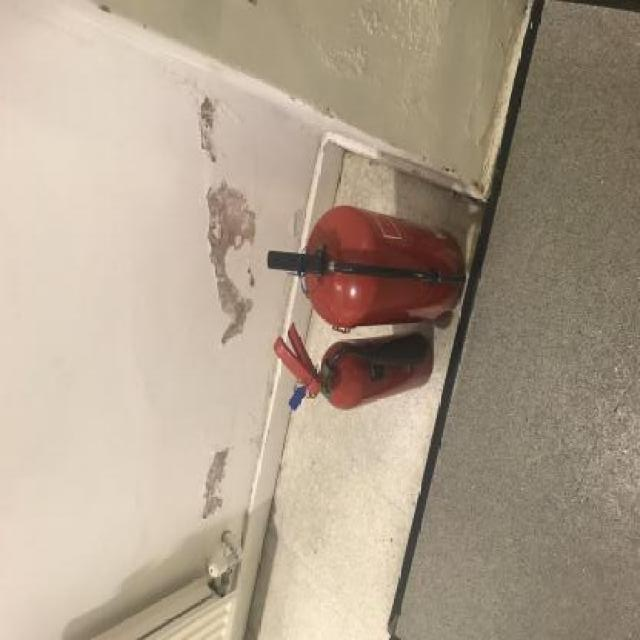fire extinguisher: (267, 204, 465, 330), (273, 322, 430, 410)
